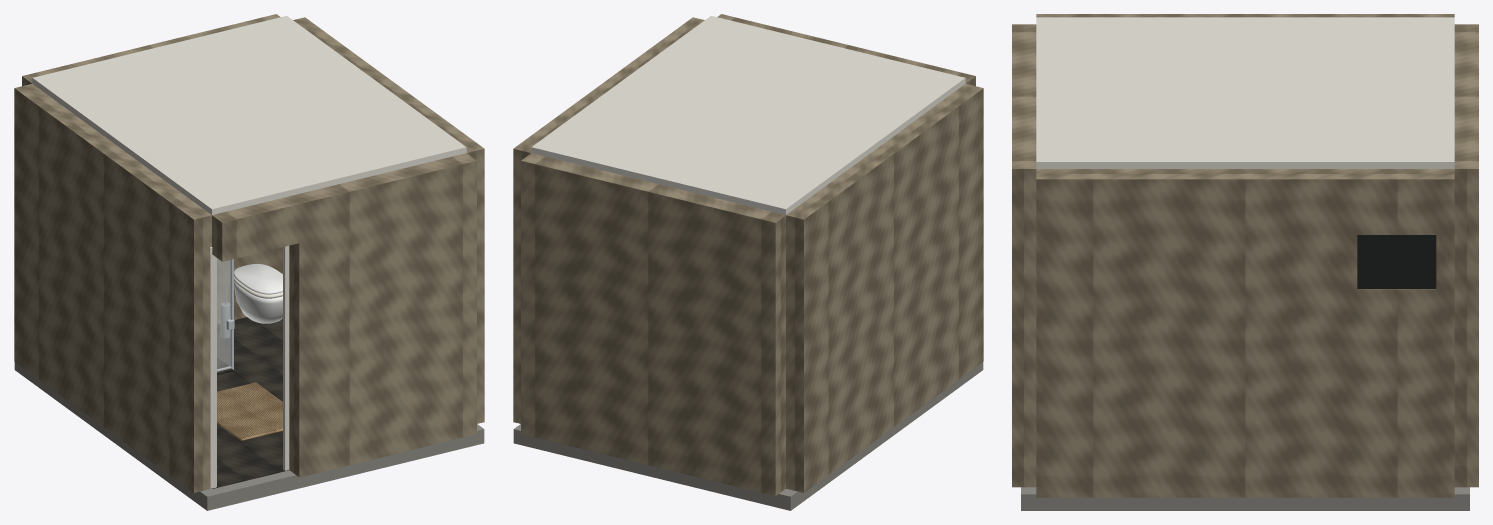
File: 6_Alternatif_2.glb
3 views of the same model, side by side, from view 1: azimuth 30°, elevation 25°; view 2: azimuth 150°, elevation 25°; view 3: azimuth 270°, elevation 25° (orthographic). The views are drawn at different scales.
Parts seen in each view (by area): view 1: Ön duvar | sunum için gizli, Sol duvar, Tavan | plan görünümünde gizlenir, Zemin taşıyıcı, Sağ duvar / gerçek pencere boşluğu, Dokulu banyo paspası, Zemin seramik / derz 2mm.013, Zemin seramik / derz 2mm, Kapı pervazı, Kapı pervazı.001, Kabin menteşeli kapı, 103x20cm tam boy rezervuar çıkıntısı (+6 smaller); view 2: Arka duvar / gerçek niş boşlukları, Sol duvar, Tavan | plan görünümünde gizlenir, Zemin taşıyıcı, Sağ duvar / gerçek pencere boşluğu, Ön duvar | sunum için gizli; view 3: Sağ duvar / gerçek pencere boşluğu, Tavan | plan görünümünde gizlenir, Arka duvar / gerçek niş boşlukları, Ön duvar | sunum için gizli, Zemin taşıyıcı, Havalandırma karanlık iç boşluğu, Sol duvar.
Part boxes in pixels (x1,y1,x2,y2): Ön duvar | sunum için gizli: (212, 153, 476, 477); Sol duvar: (14, 83, 211, 492); Tavan | plan görünümünde gizlenir: (32, 16, 466, 214); Zemin taşıyıcı: (14, 362, 484, 510); Sağ duvar / gerçek pencere boşluğu: (293, 17, 484, 423); Dokulu banyo paspası: (217, 382, 282, 440); Zemin seramik / derz 2mm.013: (217, 324, 282, 367); Zemin seramik / derz 2mm: (212, 443, 279, 488); Kapı pervazı: (210, 252, 216, 488); Kapı pervazı.001: (283, 245, 289, 470); Kabin menteşeli kapı: (217, 258, 230, 369); 103x20cm tam boy rezervuar çıkıntısı: (217, 247, 282, 323); Arka duvar / gerçek niş boşlukları: (521, 153, 785, 496); Sol duvar: (786, 83, 983, 492); Tavan | plan görünümünde gizlenir: (531, 16, 965, 214); Zemin taşıyıcı: (513, 362, 983, 510); Sağ duvar / gerçek pencere boşluğu: (513, 17, 704, 423); Ön duvar | sunum için gizli: (717, 14, 975, 86); Sağ duvar / gerçek pencere boşluğu: (1036, 169, 1454, 497); Tavan | plan görünümünde gizlenir: (1036, 17, 1454, 168); Arka duvar / gerçek niş boşlukları: (1454, 24, 1478, 487); Ön duvar | sunum için gizli: (1012, 24, 1036, 487); Zemin taşıyıcı: (1021, 487, 1469, 510); Havalandırma karanlık iç boşluğu: (1357, 235, 1436, 289); Sol duvar: (1036, 14, 1454, 17).
Bounding box in the file's own units: 2.57 × 2.49 × 3.07.
15 materials, 4 textured.
